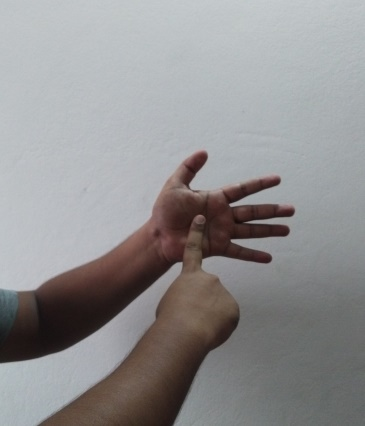oo: (145, 147, 297, 337)
